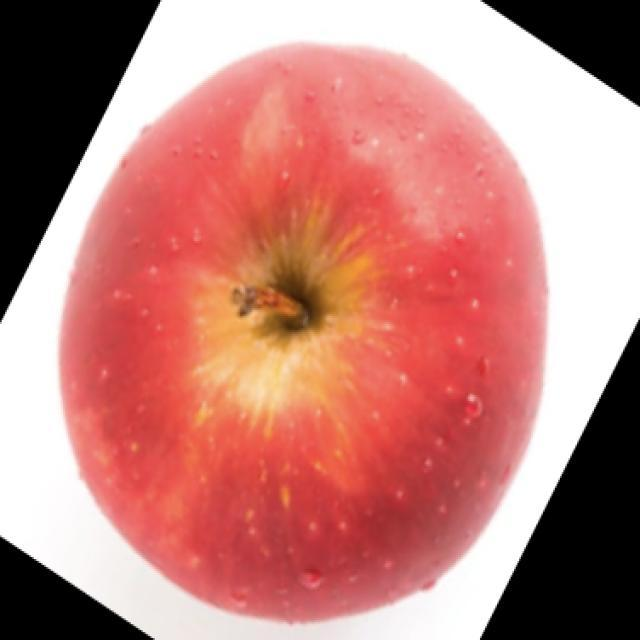Fresh Apple: (61, 33, 547, 627)
